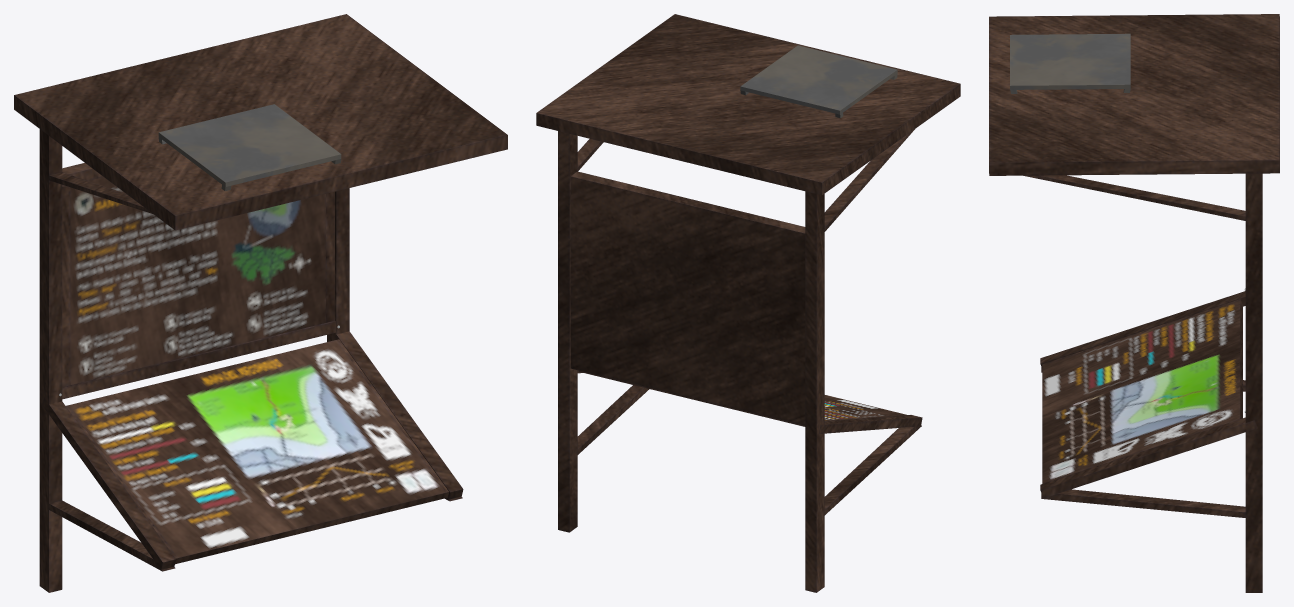
The model's file is tablero-informativo.glb.
The picture shows the model from 3 angles, left to right: view 1: azimuth 30°, elevation 25°; view 2: azimuth 150°, elevation 25°; view 3: azimuth 270°, elevation 25°; orthographic projection. The views are drawn at different scales.
Size of the model in its own units: 8.77 by 12.5 by 7.37.
Materials: 11 (11 with a texture image).
